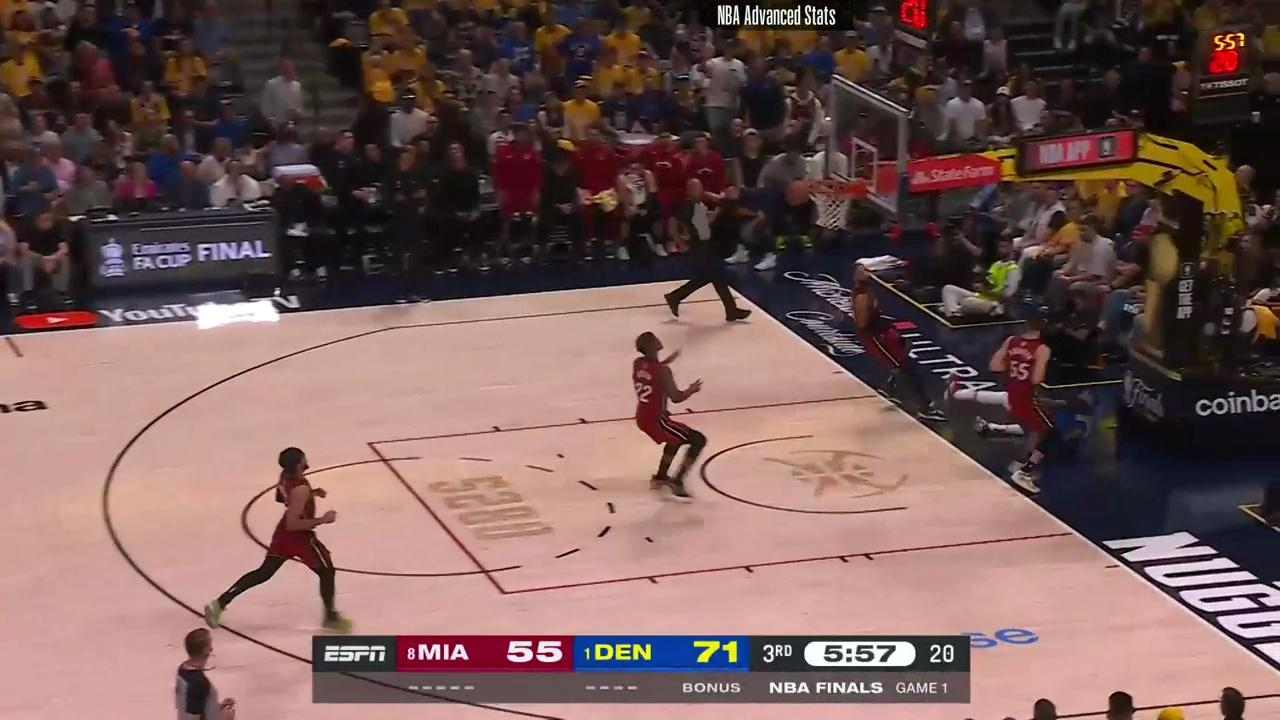Backboard: (832, 80, 905, 209)
Ball: (785, 179, 807, 203)
Basket: (801, 176, 859, 234)
Person: (214, 446, 358, 638), (846, 258, 946, 425), (621, 331, 709, 506), (939, 372, 1111, 452), (989, 305, 1056, 503)
Referee: (656, 173, 746, 331), (166, 626, 233, 720)
Shot Clock: (1193, 26, 1257, 115), (891, 1, 936, 64)
